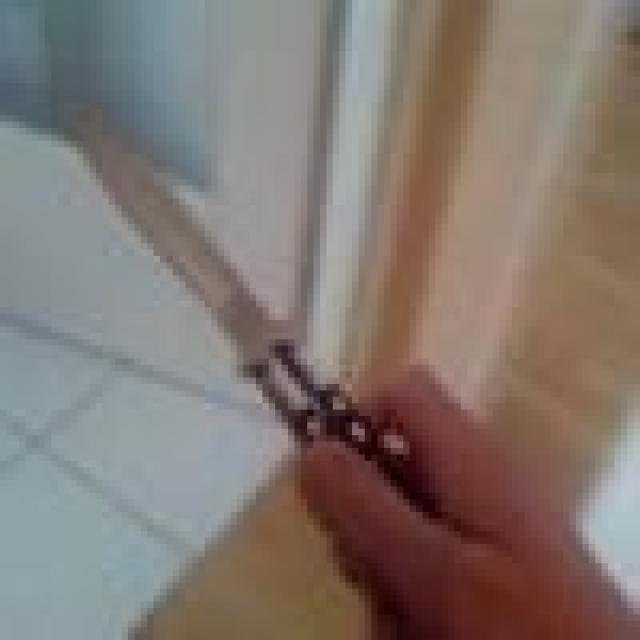senjata_tajam: (51, 80, 357, 442)
